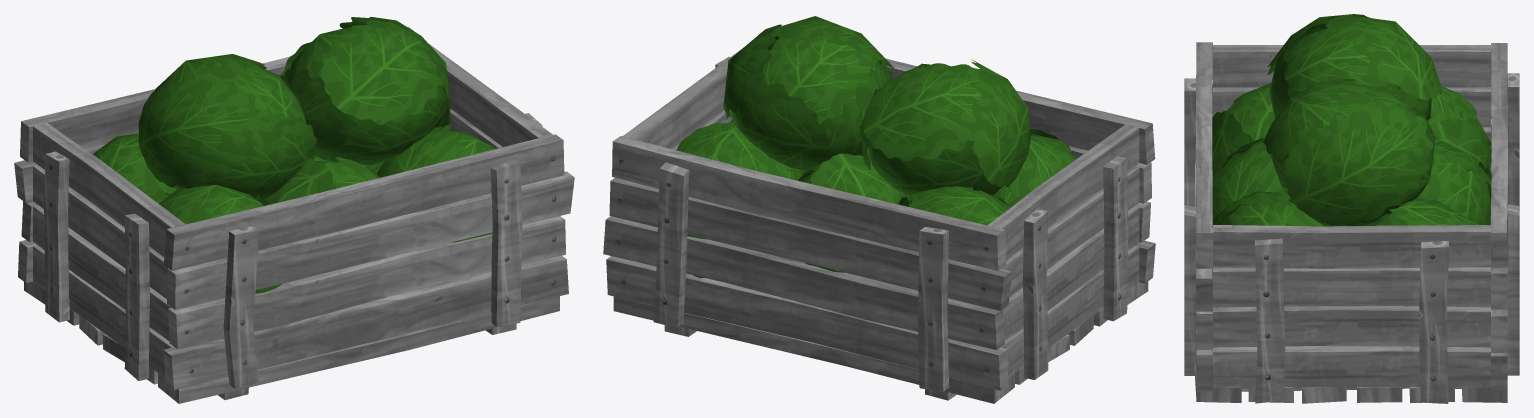
Rendered from Crate01A.fbx.
3 views of the same model, side by side, from view 1: azimuth 30°, elevation 25°; view 2: azimuth 150°, elevation 25°; view 3: azimuth 270°, elevation 25° (orthographic).
Visible parts, largest first — view 1: Crate01_LOD0, Cabbages04_LOD0, Cabbages03_LOD0, Cabbages01_LOD0, Cabbages02_LOD0; view 2: Crate01_LOD0, Cabbages04_LOD0, Cabbages03_LOD0, Cabbages01_LOD0, Cabbages02_LOD0; view 3: Crate01_LOD0, Cabbages04_LOD0, Cabbages02_LOD0, Cabbages03_LOD0, Cabbages01_LOD0.
Part boxes in pixels (x1,y1,x2,y2): Crate01_LOD0: (14, 27, 574, 403); Cabbages04_LOD0: (138, 17, 450, 200); Cabbages03_LOD0: (92, 133, 282, 293); Cabbages01_LOD0: (371, 125, 495, 244); Cabbages02_LOD0: (168, 156, 379, 261); Crate01_LOD0: (603, 32, 1155, 403); Cabbages04_LOD0: (723, 16, 1031, 196); Cabbages03_LOD0: (898, 129, 1076, 225); Cabbages01_LOD0: (676, 120, 804, 277); Cabbages02_LOD0: (798, 153, 911, 272); Crate01_LOD0: (1184, 42, 1519, 403); Cabbages04_LOD0: (1264, 14, 1441, 226); Cabbages02_LOD0: (1212, 137, 1491, 224); Cabbages03_LOD0: (1212, 83, 1491, 176); Cabbages01_LOD0: (1212, 191, 1491, 306).
Size of what is drawn, in the model's own units: 88.9 by 56.96 by 63.42.
